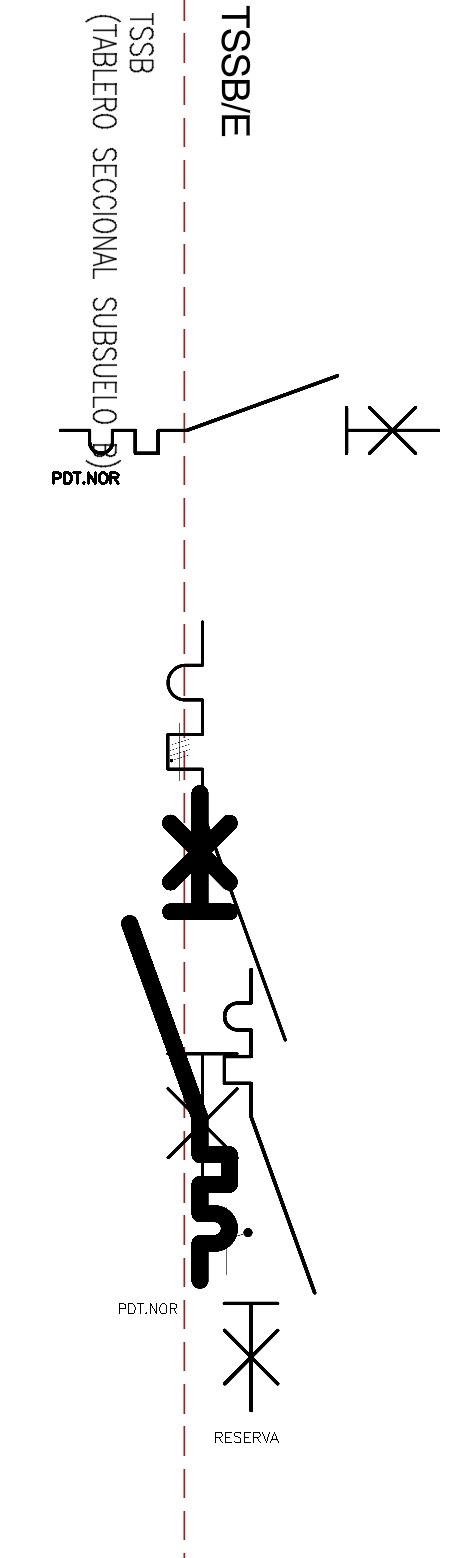interruptor_termomagnetico: (153, 607, 300, 1207), (117, 780, 242, 1292), (213, 958, 326, 1421), (51, 366, 448, 463)
